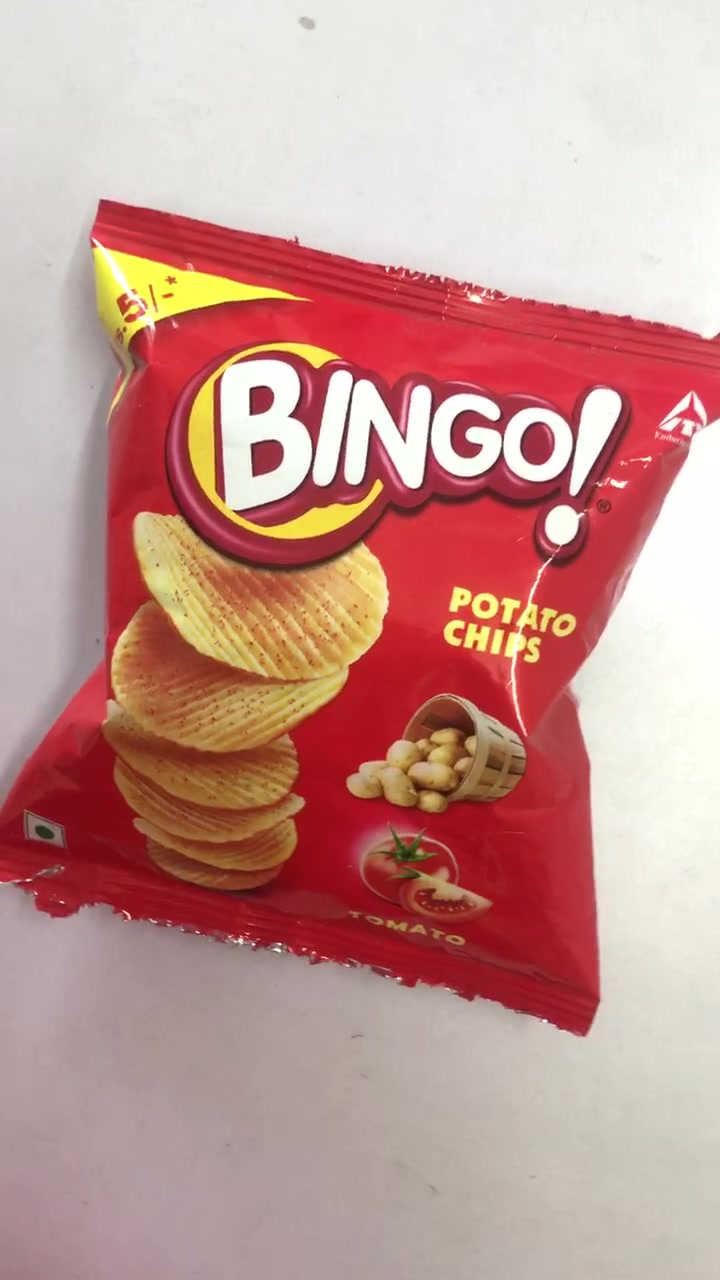Bingo: (8, 206, 720, 1036)
